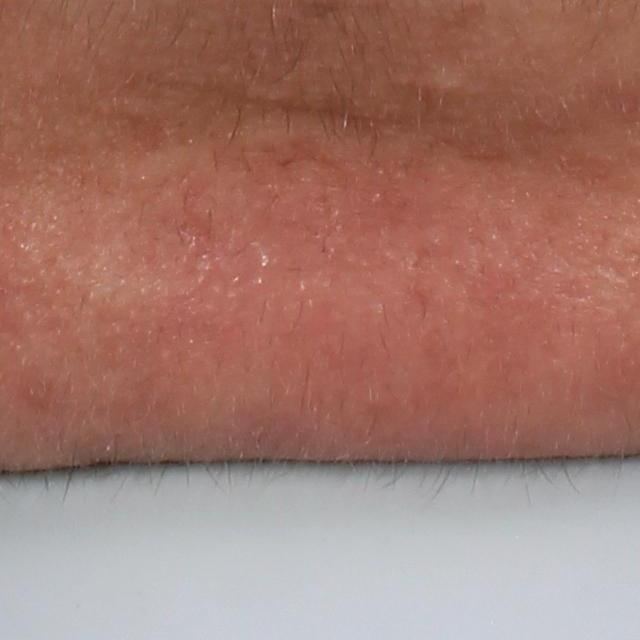hypertrophic_scar: (410, 54, 473, 95)
